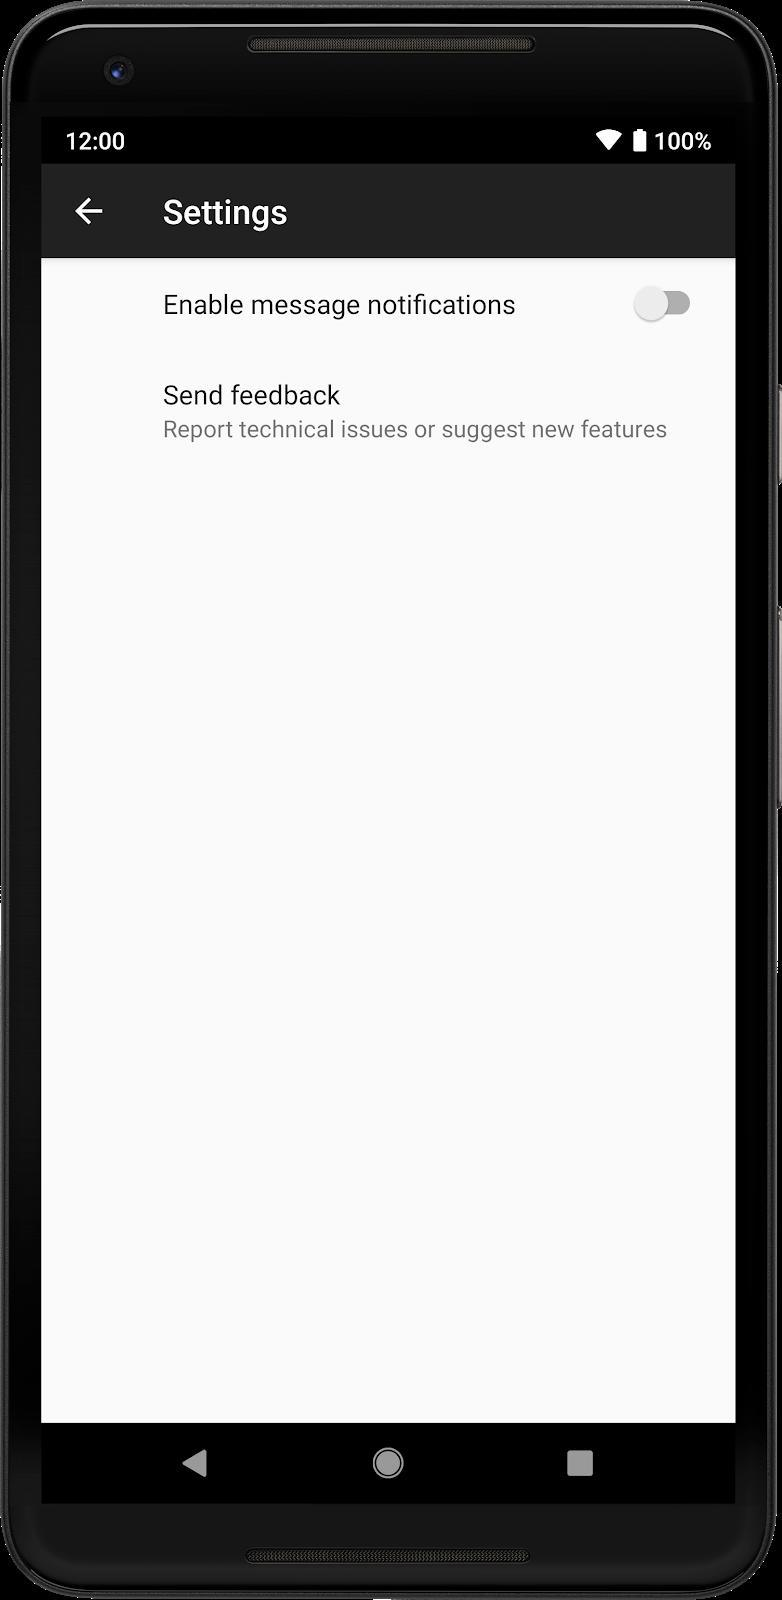icon: (75, 187, 112, 237)
label: (150, 280, 523, 329)
switch: (624, 280, 704, 334)
